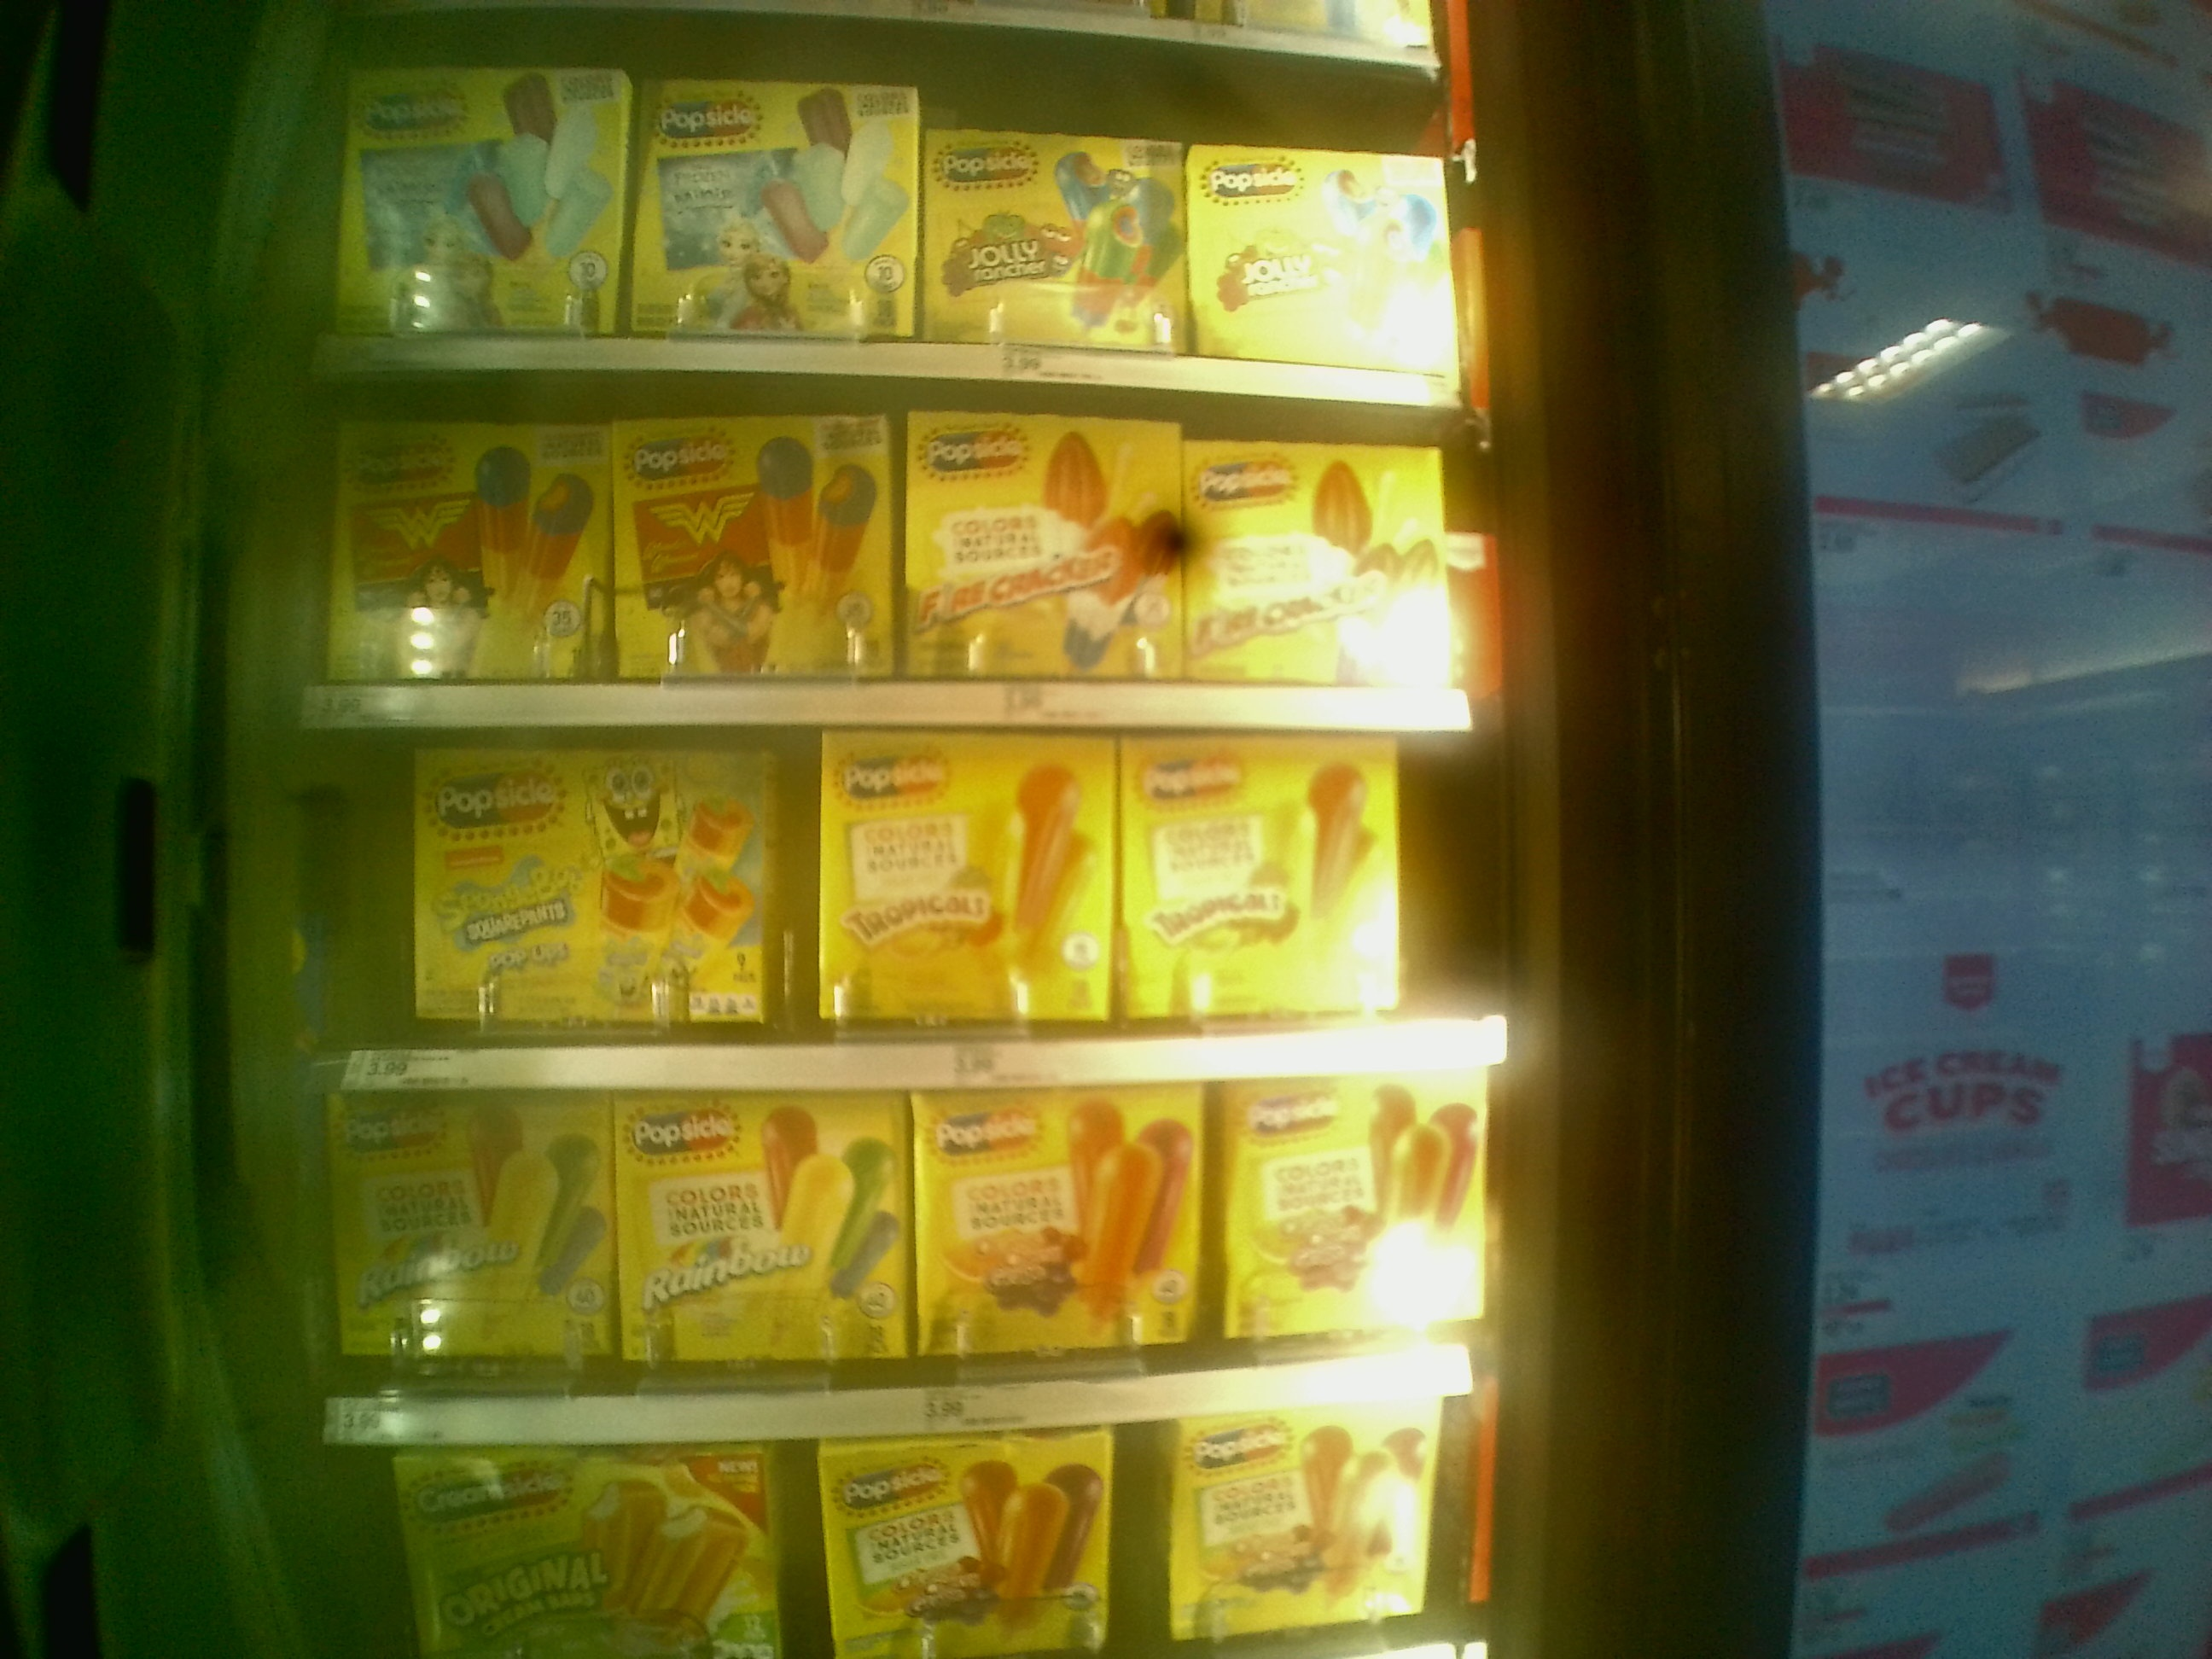shelf: (307, 697, 1514, 1053), (331, 387, 1514, 727), (334, 1058, 1475, 1410)
